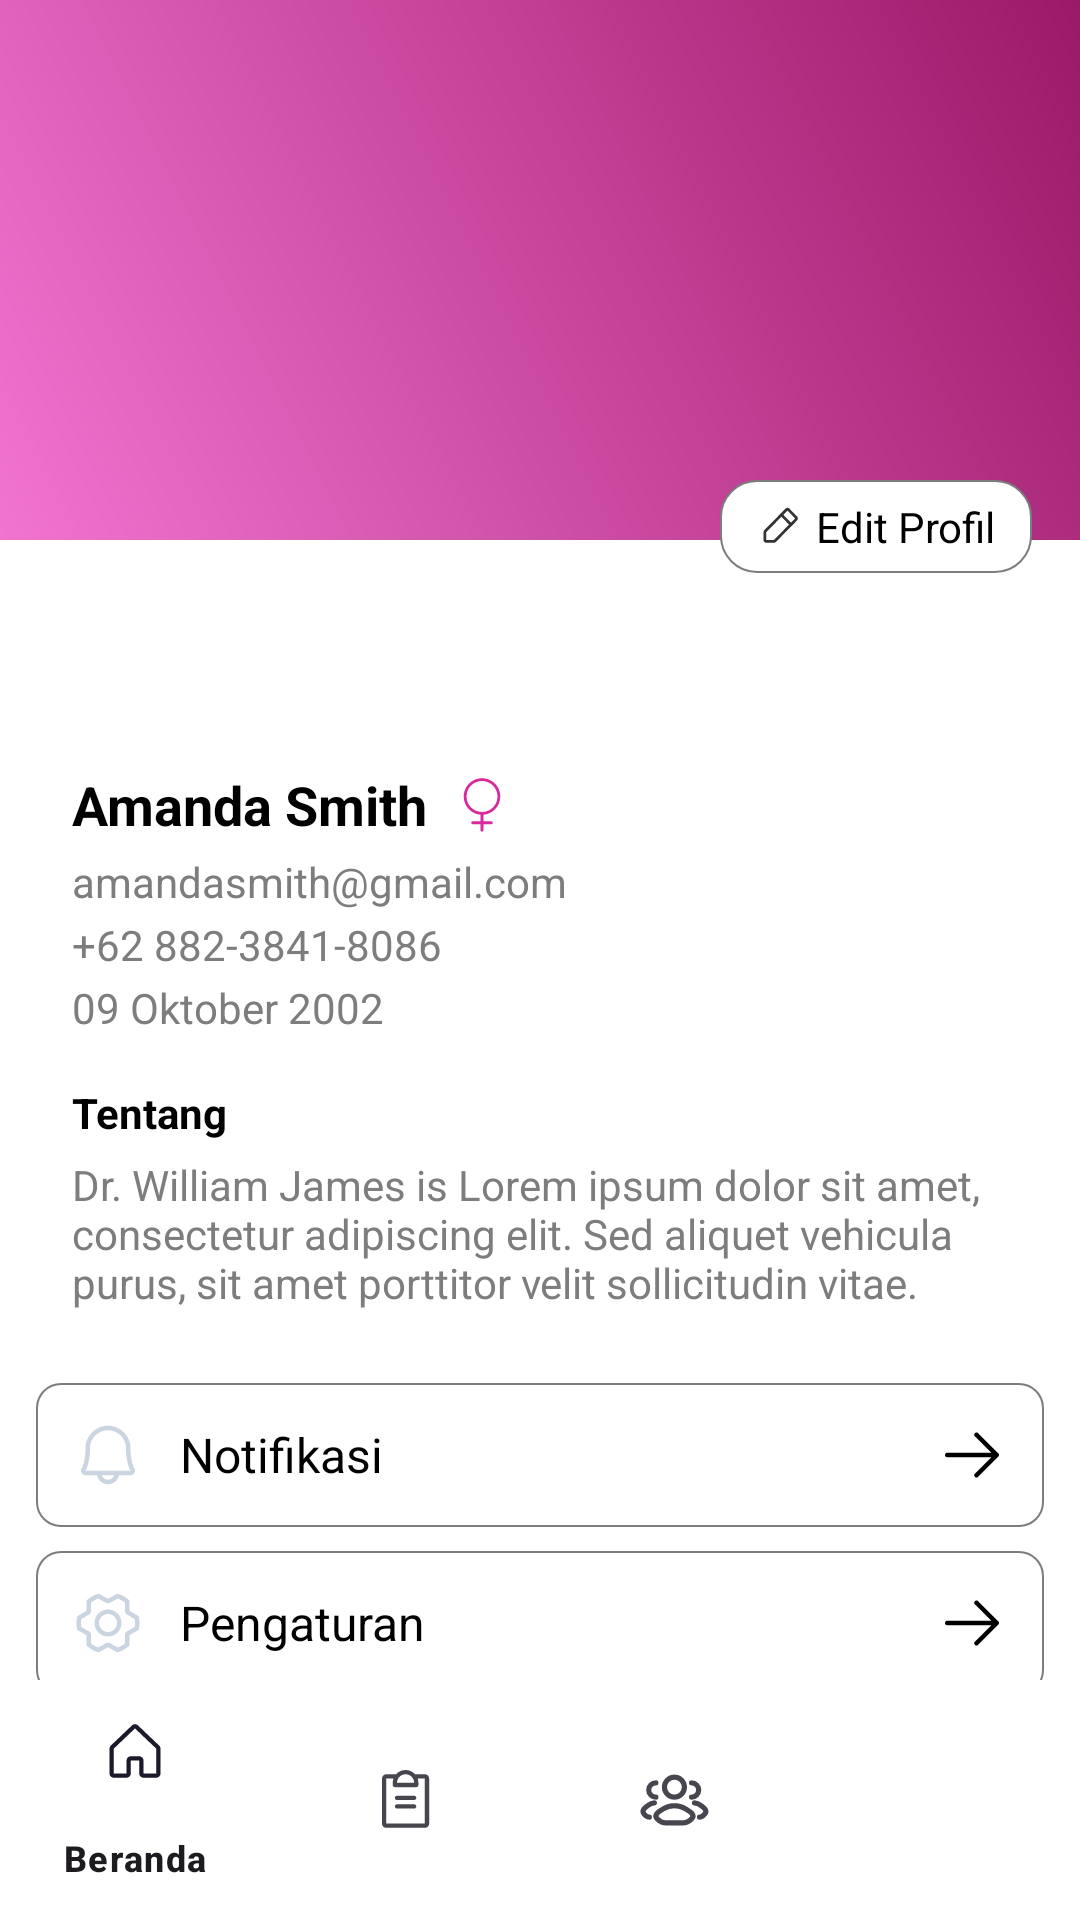

Locate icon controls on the screen. Image size 1080×1920, boxes as (x1, y1, x2, y2).
female: (463, 778, 501, 832)
notification: (81, 1426, 135, 1484)
settings: (76, 1594, 140, 1652)
